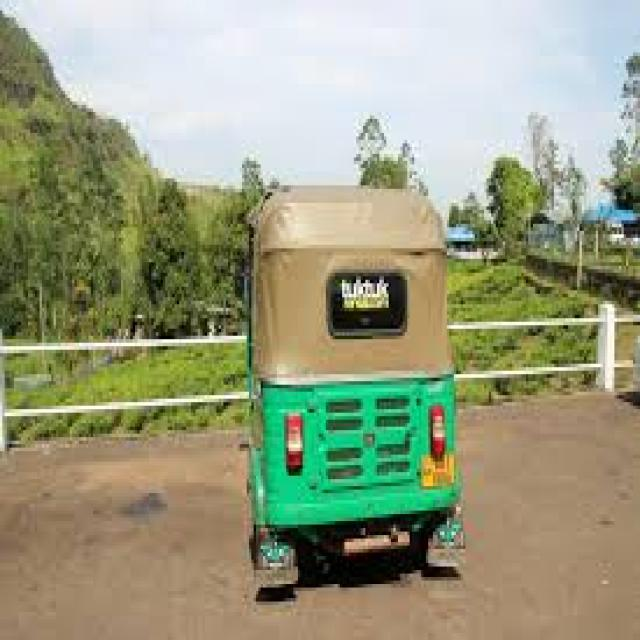tuktuk: (202, 136, 506, 630)
